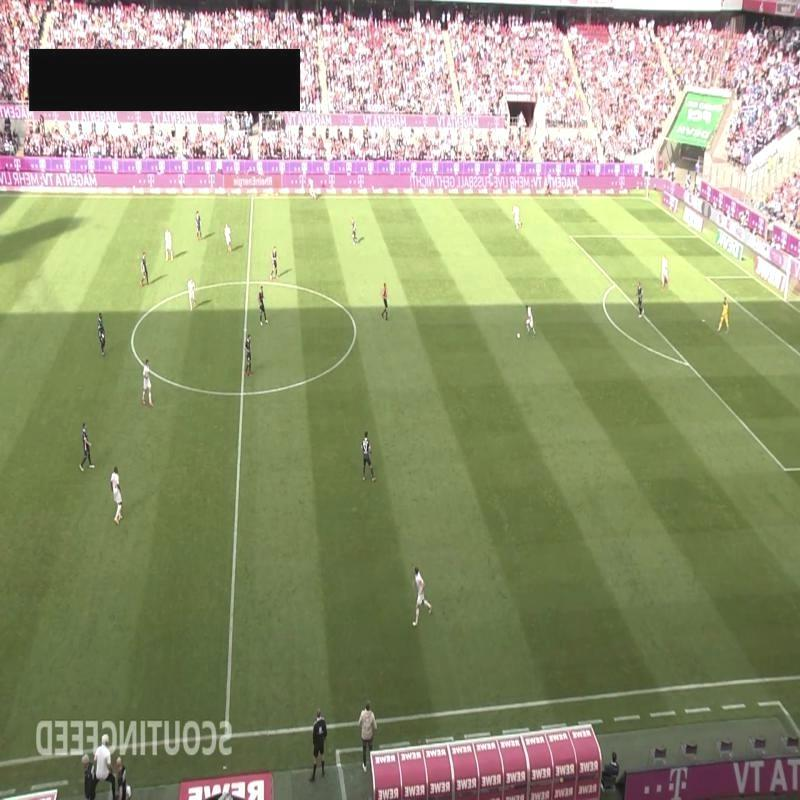1: (639, 191, 653, 205)
10: (608, 278, 622, 292)
11: (680, 357, 694, 371)
12: (779, 464, 793, 478)
13: (246, 192, 260, 206)
14: (241, 275, 254, 289)
15: (235, 387, 248, 401)
16: (212, 716, 239, 750)
2: (691, 230, 705, 244)
3: (744, 270, 758, 284)
7: (700, 269, 714, 283)
9: (564, 231, 578, 245)
c: (123, 330, 139, 346), (350, 322, 364, 336)
